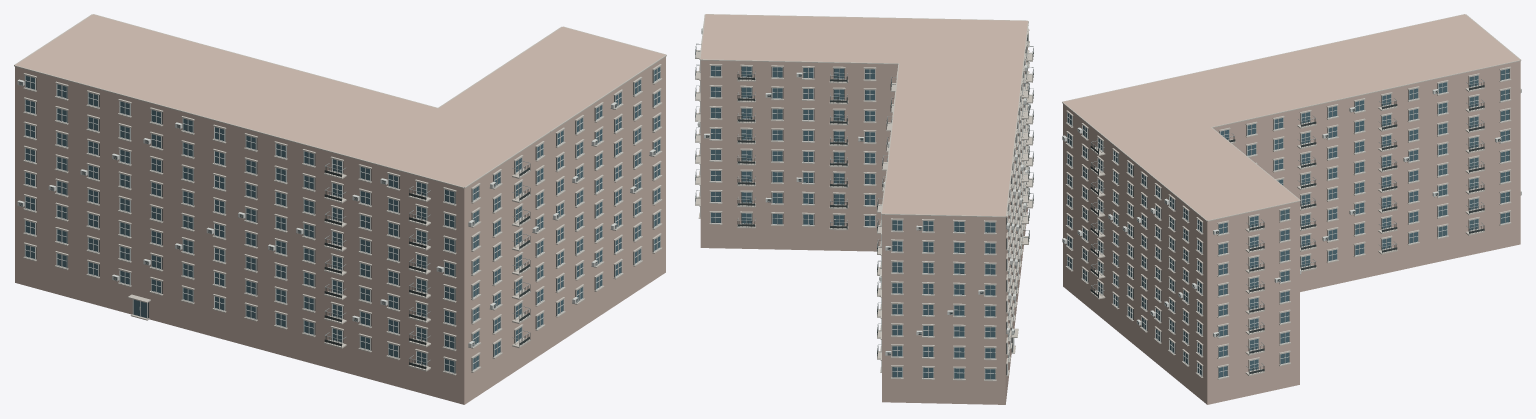
The model's file is completion-449517261.glb.
The picture shows the model from 3 angles, left to right: view 1: azimuth 30°, elevation 25°; view 2: azimuth 150°, elevation 25°; view 3: azimuth 270°, elevation 25°; orthographic projection. The views are drawn at different scales.
Visible parts, largest first — view 1: 449517261 Block 449517261 mineral plaster, 449517261 glass, 449517261 frame, 449517261 stone, 449517261 dark, 449517261 steel; view 2: 449517261 Block 449517261 mineral plaster, 449517261 stone, 449517261 glass, 449517261 frame, 449517261 dark, 449517261 steel; view 3: 449517261 Block 449517261 mineral plaster, 449517261 glass, 449517261 frame, 449517261 stone, 449517261 dark, 449517261 steel.
Boxes of the visible parts, left/top/right/bottom form: 449517261 Block 449517261 mineral plaster: left=15, top=14, right=665, bottom=404; 449517261 glass: left=25, top=67, right=659, bottom=372; 449517261 frame: left=17, top=66, right=660, bottom=373; 449517261 stone: left=14, top=14, right=666, bottom=375; 449517261 dark: left=19, top=70, right=655, bottom=373; 449517261 steel: left=18, top=82, right=655, bottom=362; 449517261 Block 449517261 mineral plaster: left=700, top=14, right=1027, bottom=404; 449517261 stone: left=695, top=14, right=1033, bottom=381; 449517261 glass: left=711, top=66, right=994, bottom=379; 449517261 frame: left=698, top=28, right=1030, bottom=379; 449517261 dark: left=695, top=29, right=1033, bottom=379; 449517261 steel: left=695, top=43, right=1033, bottom=354; 449517261 Block 449517261 mineral plaster: left=1063, top=14, right=1520, bottom=404; 449517261 glass: left=1067, top=69, right=1509, bottom=377; 449517261 frame: left=1062, top=68, right=1521, bottom=378; 449517261 stone: left=1062, top=14, right=1521, bottom=379; 449517261 dark: left=1063, top=69, right=1509, bottom=377; 449517261 steel: left=1063, top=79, right=1500, bottom=368.
Bounding box in the file's own units: 69.31 × 28.8 × 65.08.
